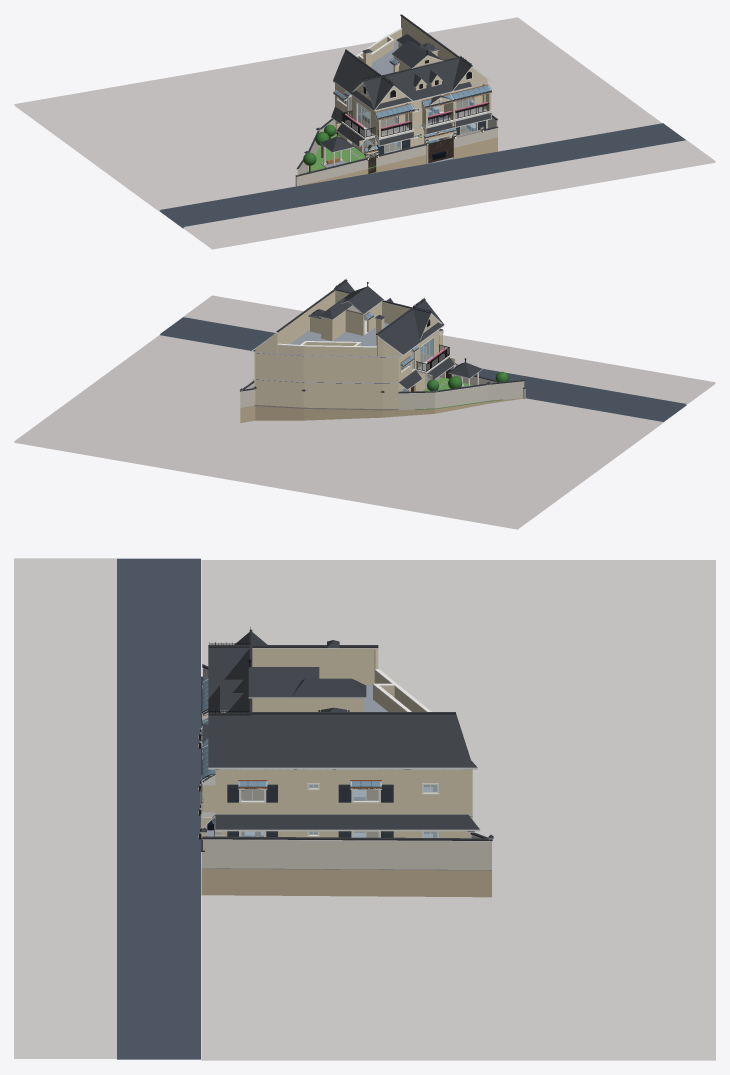
3 views of the same model, one above another, from view 1: azimuth 30°, elevation 25°; view 2: azimuth 150°, elevation 25°; view 3: azimuth 270°, elevation 25° (orthographic). The views are drawn at different scales.
Parts seen in each view (by area): view 1: ground_ground, road_road, RF_m_rooftile, m_boundary, RF_m_wall, m_rooftile, m_stone, SF_m_wall, SF_m_iron, RF_m_trim, SF_m_trim, SF_m_rooftile__sD (+9 smaller); view 2: ground_ground, road_road, RF_m_wall, SF_m_wall, m_wall, RF_m_rooftile, m_boundary, m_stone, m_rooftile, RF_m_trim, RF_m_paver, m_trim; view 3: ground_ground, road_road, RF_m_rooftile, SF_m_wall, m_boundary, m_stone, m_rooftile, RF_m_wall, RF_m_trim, m_trim, m_wall, SF_m_shutter__sA (+1 smaller).
Part boxes in pixels (x1=…): ground_ground: x1=14, y1=17, x2=715, y2=249; road_road: x1=160, y1=123, x2=685, y2=228; RF_m_rooftile: x1=333, y1=14, x2=472, y2=109; m_boundary: x1=295, y1=117, x2=497, y2=186; RF_m_wall: x1=356, y1=16, x2=487, y2=103; m_rooftile: x1=295, y1=106, x2=498, y2=176; m_stone: x1=296, y1=137, x2=497, y2=186; SF_m_wall: x1=335, y1=83, x2=487, y2=134; SF_m_iron: x1=341, y1=103, x2=489, y2=137; RF_m_trim: x1=333, y1=16, x2=491, y2=111; SF_m_trim: x1=336, y1=97, x2=491, y2=139; SF_m_rooftile__sD: x1=334, y1=85, x2=491, y2=119; ground_ground: x1=14, y1=295, x2=715, y2=529; road_road: x1=160, y1=317, x2=686, y2=422; RF_m_wall: x1=255, y1=291, x2=437, y2=356; SF_m_wall: x1=254, y1=330, x2=438, y2=382; m_wall: x1=254, y1=357, x2=455, y2=408; RF_m_rooftile: x1=276, y1=280, x2=444, y2=354; m_boundary: x1=240, y1=374, x2=525, y2=409; m_stone: x1=240, y1=398, x2=525, y2=423; m_rooftile: x1=240, y1=357, x2=525, y2=393; RF_m_trim: x1=250, y1=290, x2=444, y2=355; RF_m_paver: x1=254, y1=323, x2=400, y2=356; m_trim: x1=239, y1=364, x2=524, y2=393; ground_ground: x1=14, y1=558, x2=715, y2=1060; road_road: x1=117, y1=558, x2=200, y2=1059; RF_m_rooftile: x1=208, y1=629, x2=477, y2=767; SF_m_wall: x1=215, y1=770, x2=472, y2=814; m_boundary: x1=201, y1=668, x2=491, y2=869; m_stone: x1=200, y1=789, x2=491, y2=897; m_rooftile: x1=200, y1=664, x2=493, y2=851; RF_m_wall: x1=221, y1=648, x2=425, y2=712; RF_m_trim: x1=208, y1=648, x2=477, y2=769; m_trim: x1=200, y1=667, x2=493, y2=841; m_wall: x1=201, y1=742, x2=472, y2=838; SF_m_shutter__sA: x1=227, y1=784, x2=393, y2=802.
Size of the model in its own units: 67.06 by 15.02 by 45.72.
